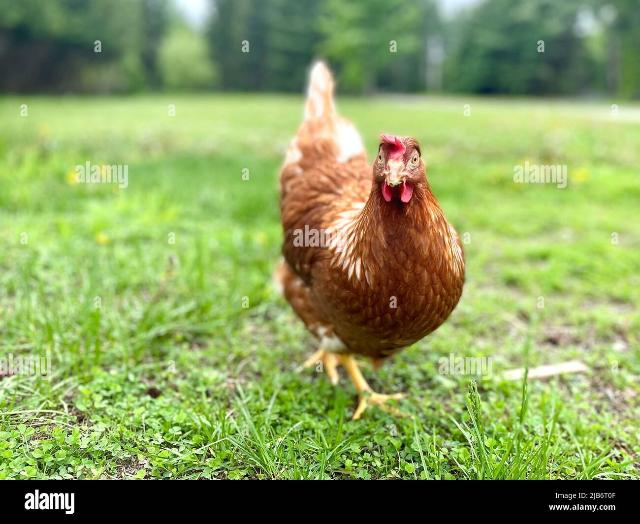Chicken: (278, 62, 466, 421)
